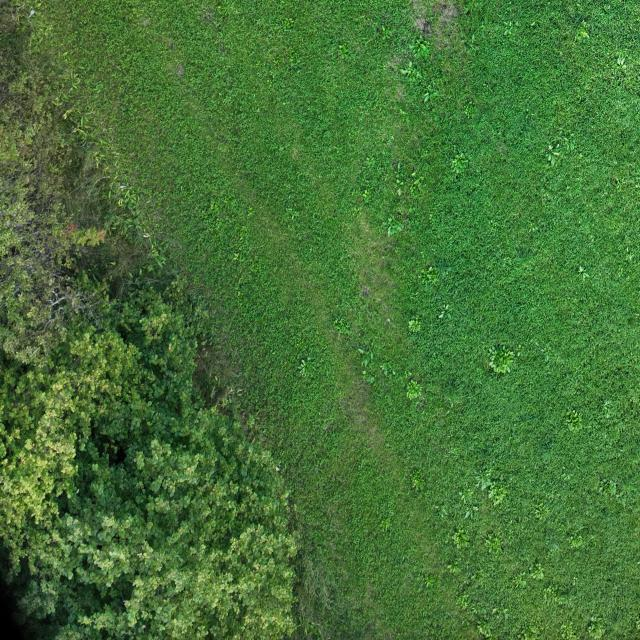rumex: (68, 5, 165, 96), (382, 157, 422, 228), (123, 254, 175, 306), (202, 191, 248, 248), (16, 1, 56, 54), (53, 68, 87, 120), (0, 215, 32, 258), (608, 41, 637, 84), (265, 38, 297, 75), (142, 306, 175, 341), (112, 178, 142, 215), (417, 77, 443, 114), (392, 160, 410, 201), (381, 212, 405, 240), (219, 380, 242, 409), (71, 116, 92, 146), (596, 478, 622, 500), (488, 481, 508, 506), (484, 534, 504, 558), (449, 152, 469, 176), (544, 143, 564, 166), (405, 378, 424, 402), (532, 497, 550, 522), (542, 582, 562, 604), (452, 527, 470, 551), (559, 619, 579, 640), (586, 616, 605, 638), (565, 409, 583, 431), (419, 266, 438, 286), (359, 349, 374, 374), (434, 302, 452, 322), (410, 469, 426, 491), (332, 314, 348, 335), (454, 592, 470, 613), (476, 472, 493, 491), (567, 532, 584, 549), (530, 563, 546, 581), (477, 622, 494, 638), (90, 135, 110, 148), (462, 102, 476, 119), (504, 21, 516, 40), (408, 317, 421, 334), (379, 24, 392, 40), (336, 43, 349, 58), (400, 65, 415, 78), (67, 77, 80, 91), (209, 200, 220, 216), (577, 264, 588, 280), (94, 152, 107, 165), (576, 26, 588, 40), (417, 44, 429, 58), (283, 16, 295, 29), (361, 189, 371, 203), (410, 183, 420, 196), (422, 92, 432, 105), (492, 361, 502, 373), (299, 360, 307, 374), (366, 375, 375, 385), (464, 509, 472, 520), (497, 364, 505, 375), (22, 176, 30, 187), (388, 226, 394, 238), (546, 152, 553, 162), (117, 198, 123, 208), (358, 348, 366, 355), (63, 111, 69, 120), (489, 360, 495, 369), (396, 178, 403, 185), (411, 170, 417, 178), (548, 144, 554, 152), (397, 188, 402, 197), (214, 376, 219, 385), (438, 312, 444, 319), (445, 303, 450, 311), (428, 266, 433, 273)
